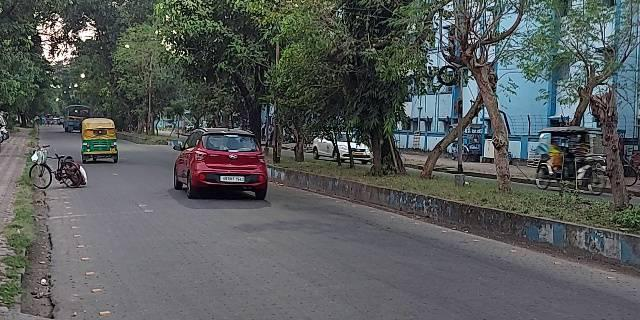Autorickshaw: (81, 121, 119, 159)
Car: (180, 125, 271, 192)
Cycle: (28, 153, 86, 188)
